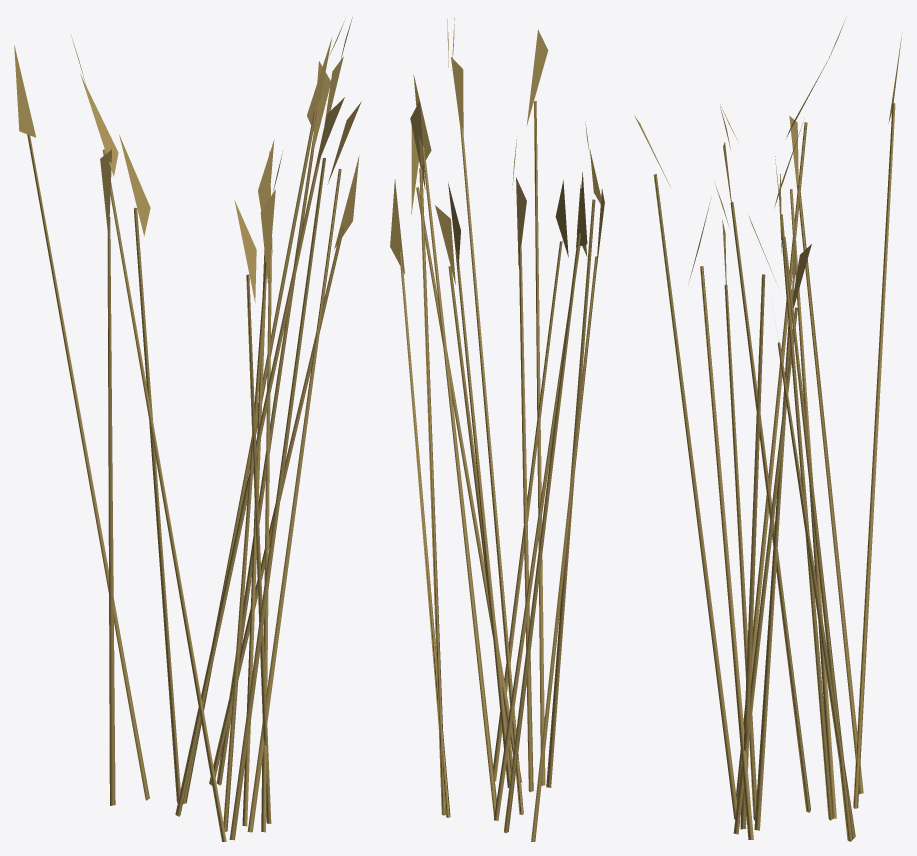
Rendered from trigo_1.glb.
3 views of the same model, side by side, from view 1: azimuth 30°, elevation 25°; view 2: azimuth 150°, elevation 25°; view 3: azimuth 270°, elevation 25° (orthographic). The views are drawn at different scales.
Parts seen in each view (by area): view 1: trigo_1.001; view 2: trigo_1.001; view 3: trigo_1.001.
Boxes of the visible parts, x1,y1,x2,y2 form: trigo_1.001: [14, 17, 361, 841]; trigo_1.001: [390, 17, 604, 841]; trigo_1.001: [633, 16, 902, 841].
Size of the model in its own units: 0.4551 by 1.27 by 0.4052.
